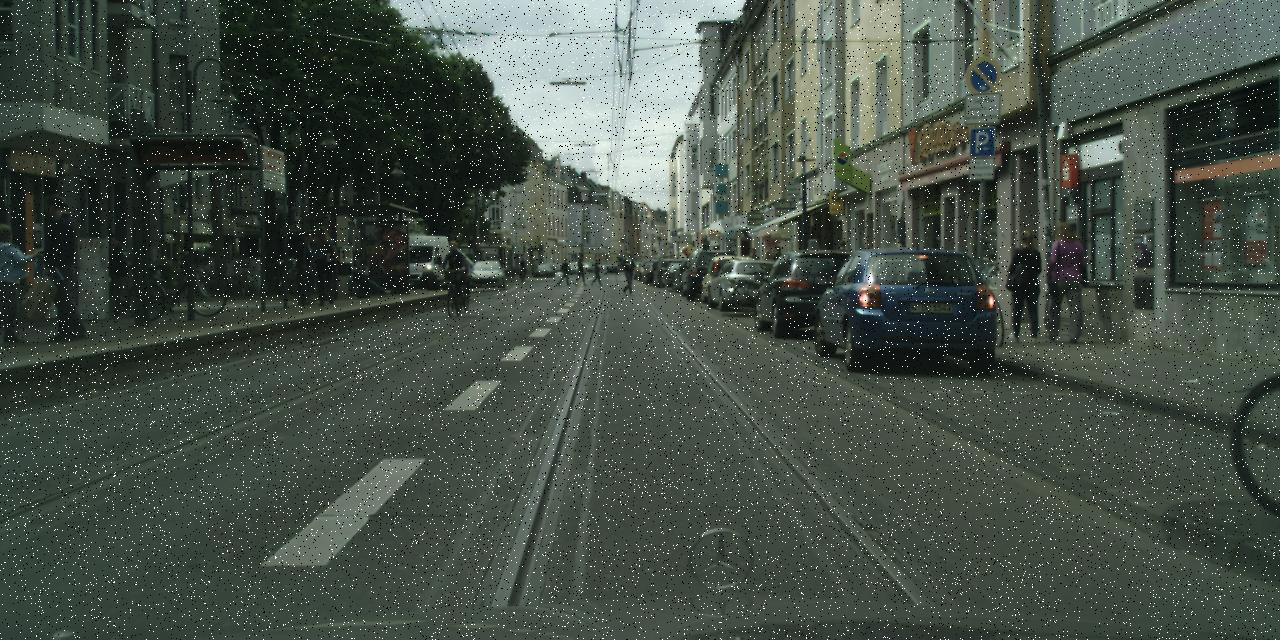ped: (32, 193, 92, 340), (1038, 221, 1087, 340), (1002, 230, 1047, 341), (0, 223, 25, 343), (101, 233, 133, 314), (307, 226, 338, 302), (291, 230, 320, 302), (440, 239, 474, 285), (831, 240, 853, 296), (618, 250, 636, 292), (744, 247, 760, 287), (761, 242, 782, 258), (558, 257, 570, 284), (575, 257, 586, 284), (591, 258, 601, 284), (517, 256, 527, 280)
